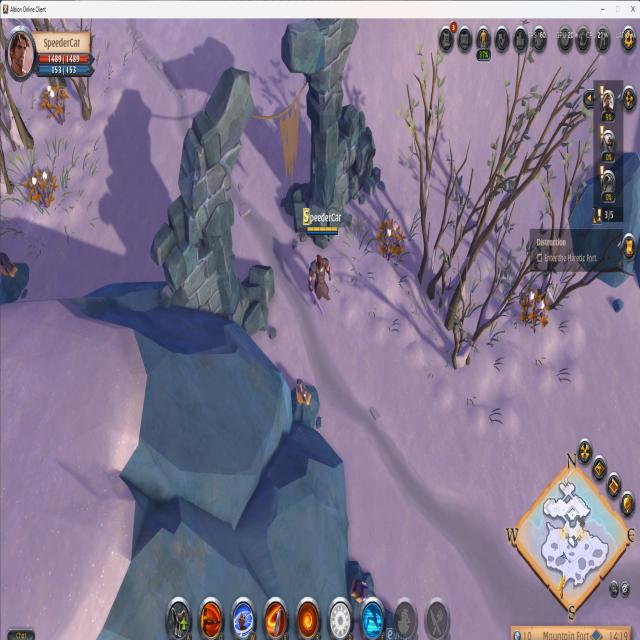copper: (0, 247, 30, 307), (348, 558, 374, 622), (290, 375, 320, 429)
cotton: (22, 168, 58, 212), (519, 285, 550, 334), (38, 85, 68, 131), (376, 217, 404, 264)
